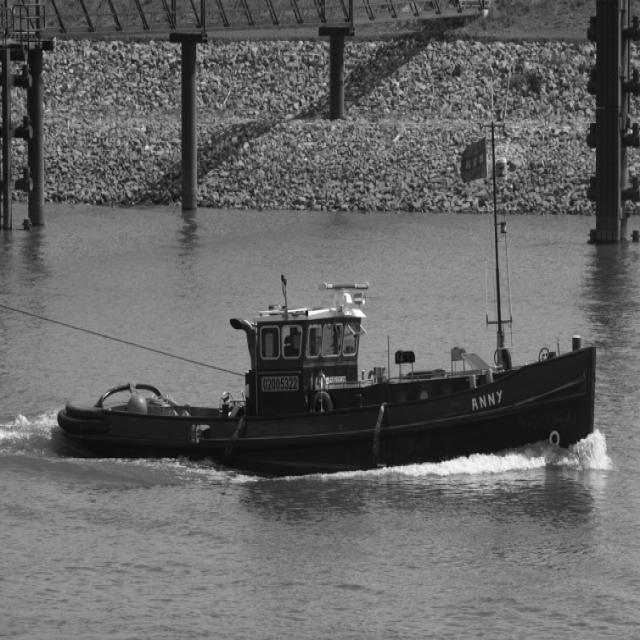tugboat: (54, 273, 605, 506)
